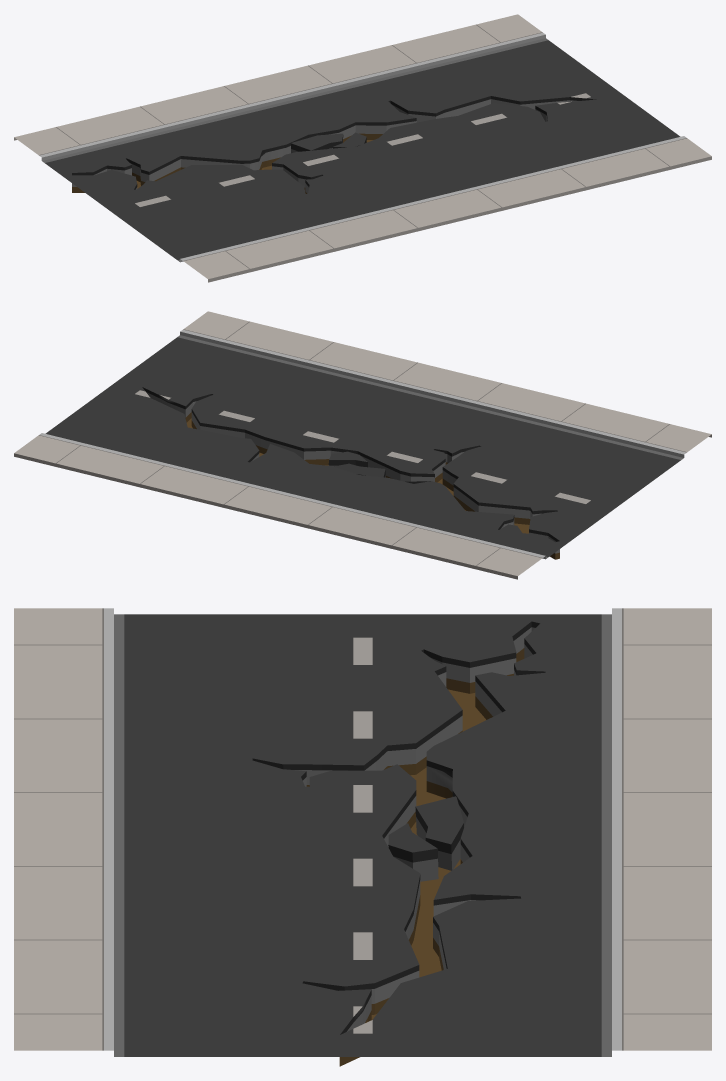
The model's file is SA_Env_Road_StraightLarge_01.gltf.
3 renders of one model, top to bottom at view 1: azimuth 30°, elevation 25°; view 2: azimuth 150°, elevation 25°; view 3: azimuth 270°, elevation 25°, orthographic. The views are drawn at different scales.
Visible parts, largest first — view 1: SA_Env_Road_StraightLarge_01; view 2: SA_Env_Road_StraightLarge_01; view 3: SA_Env_Road_StraightLarge_01.
Part boxes in pixels (<box>): SA_Env_Road_StraightLarge_01: <box>14,14,711,282</box>; SA_Env_Road_StraightLarge_01: <box>14,311,711,579</box>; SA_Env_Road_StraightLarge_01: <box>14,608,711,1066</box>.
Size of the model in its own units: 30 by 1.94 by 20.
Materials: 1 (1 with a texture image).
